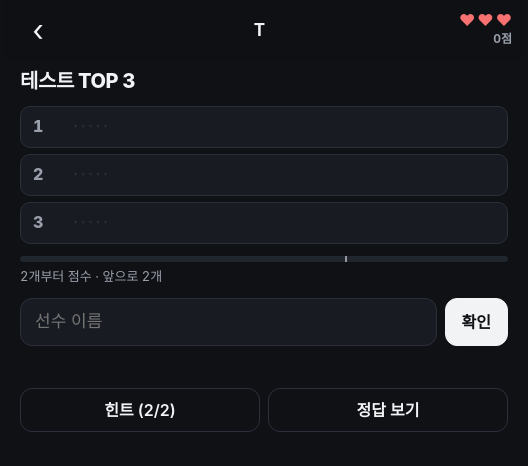
it: Top10Game › 전부 맞히면 완료
Type "살라" into the field.
click(228, 322); type("살라")  # box [20,298,436,346]
Then press Enter
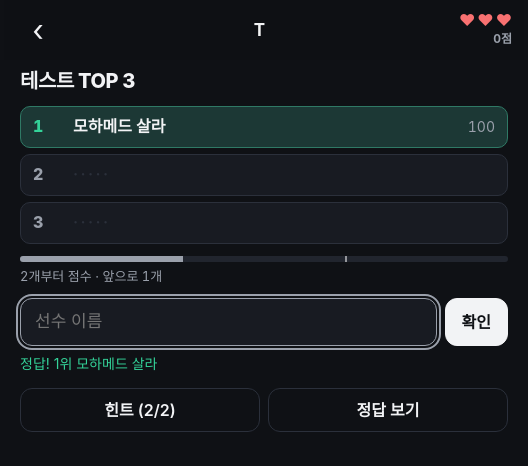
Type "베실바" into the field.
click(228, 322); type("베실바")  # box [20,298,436,346]
Then press Enter
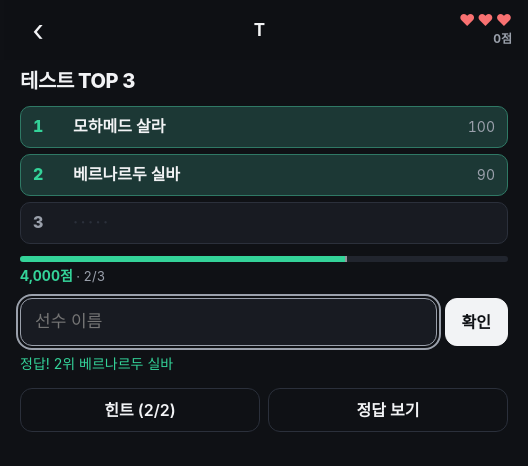
Type "티실바" into the field.
click(228, 322); type("티실바")  # box [20,298,436,346]
Then press Enter
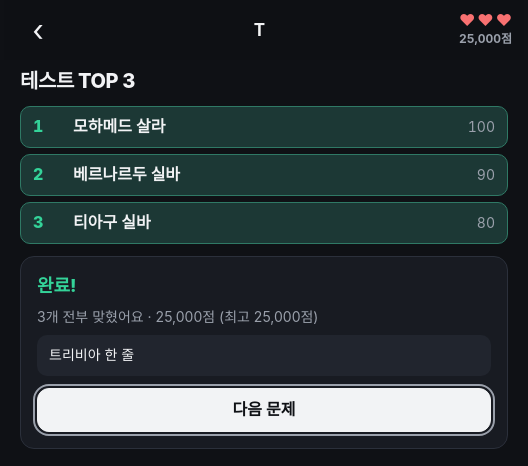
Now the heading "완료!" is shown, box [37,275,77,296]
